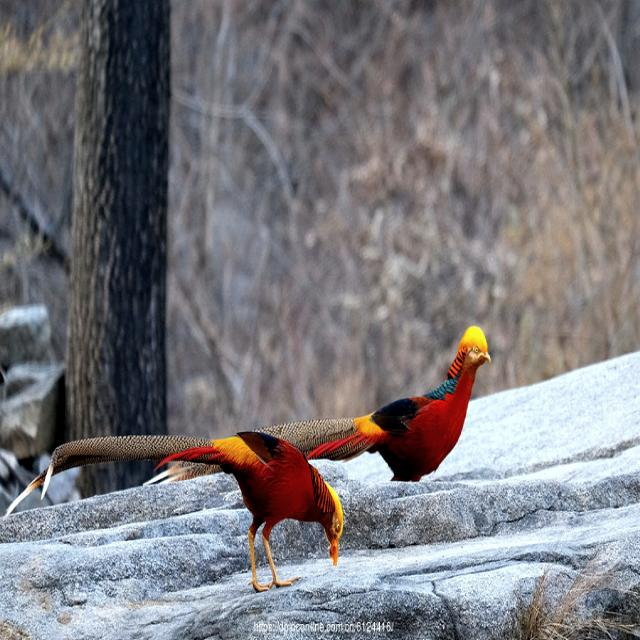Chrysolophus pictus feather: (49, 437, 211, 474), (262, 418, 360, 454), (21, 470, 46, 498)
